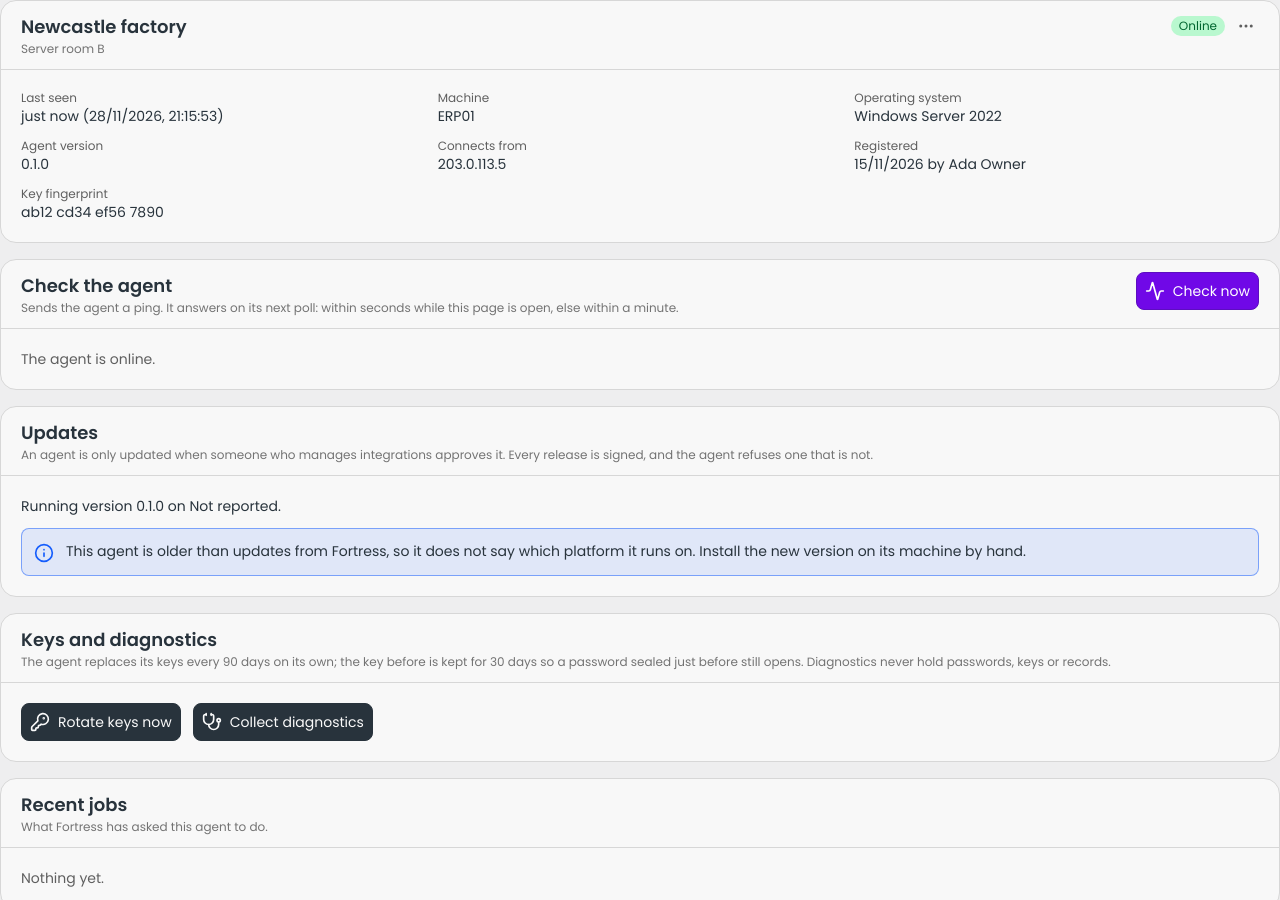
it: one agent › revokes with a reason
Later steps or results of the test are not shown.
Click the button named "Actions". click: (1246, 26)
box: [1233, 13, 1259, 39]
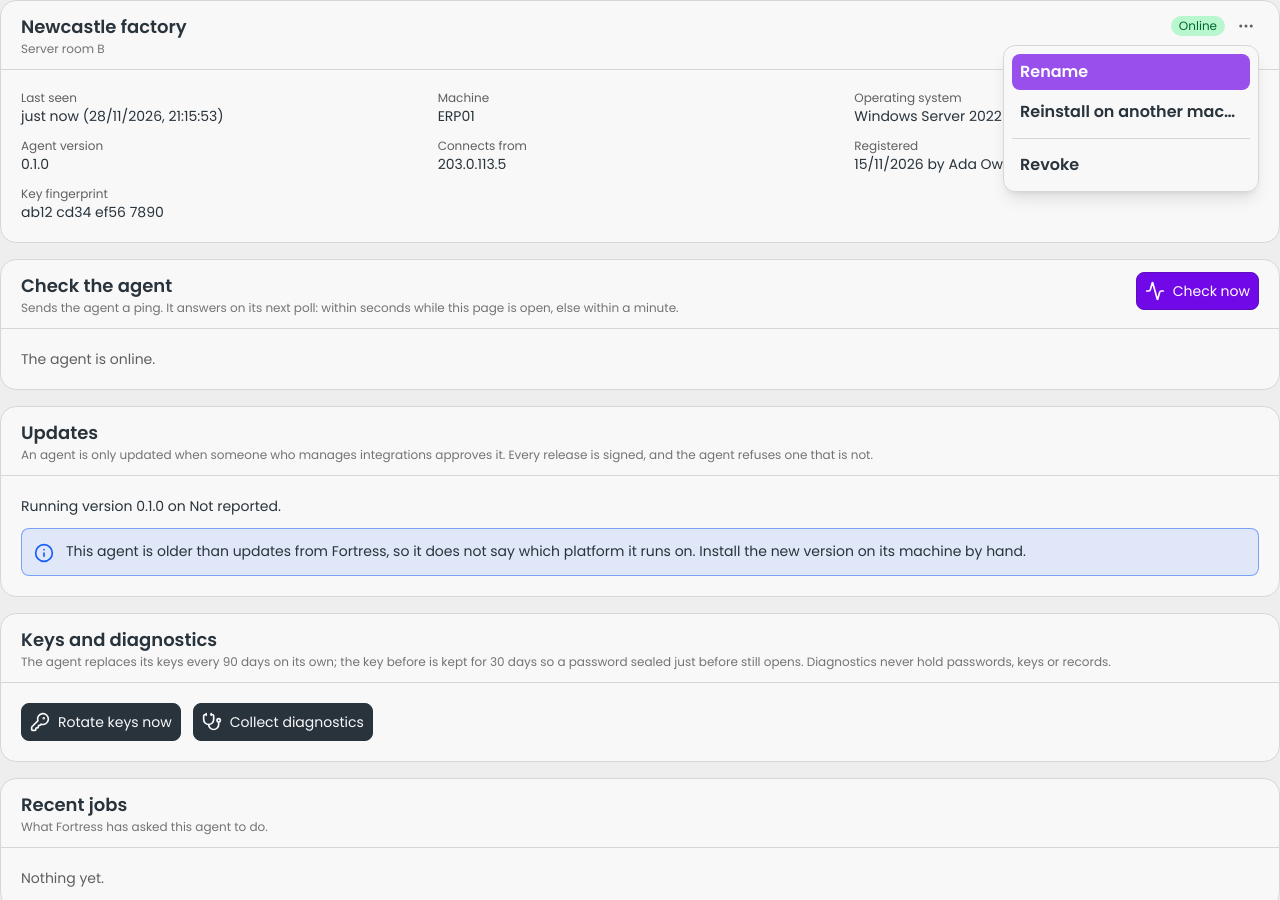
Click the menu item "Revoke". click: (1131, 165)
box: [1012, 147, 1250, 183]
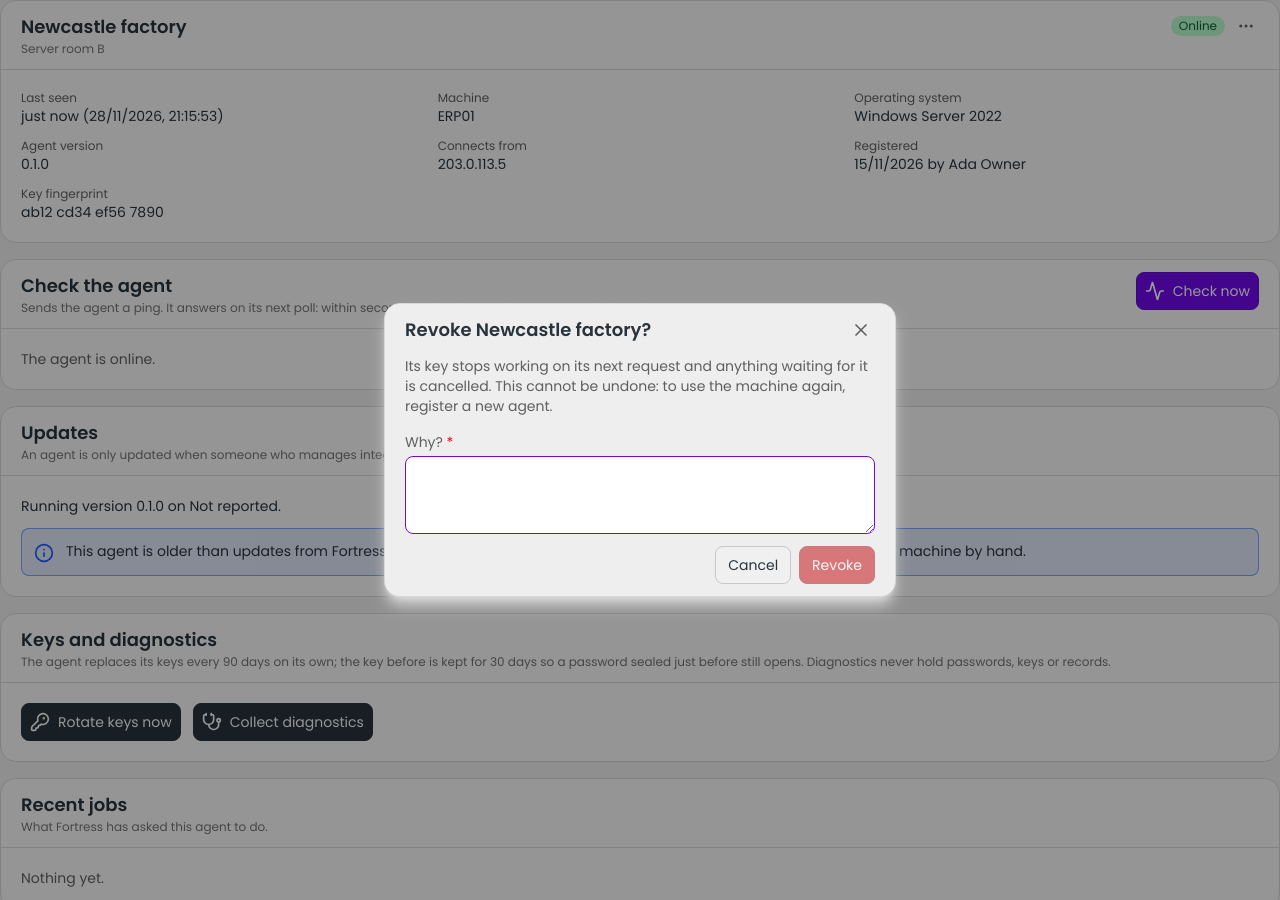
Expected: the button "Revoke" is disabled, [799, 546, 875, 584]
